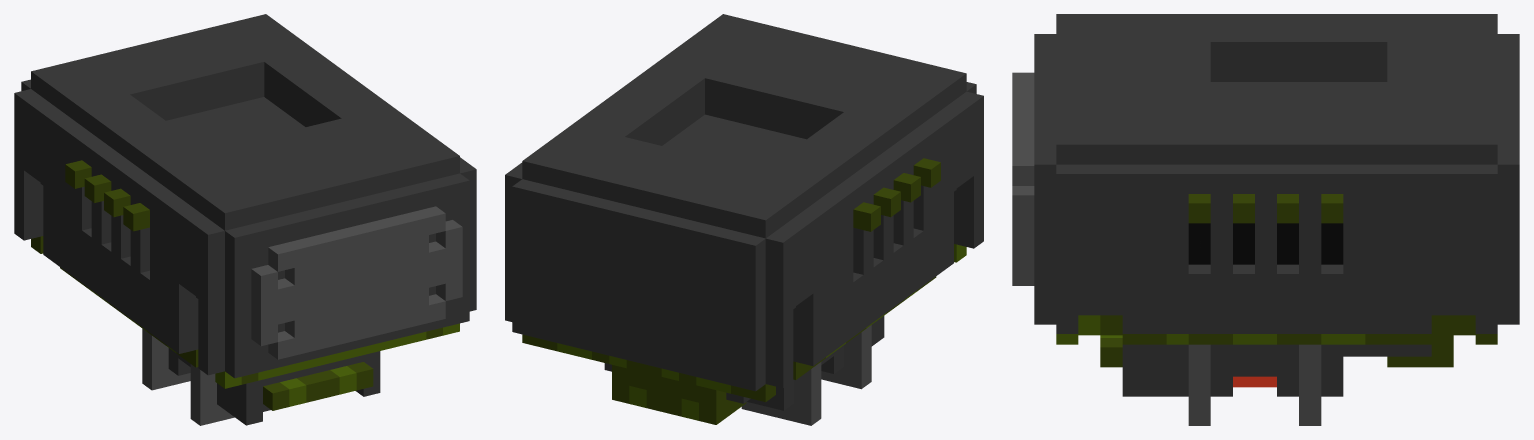
File: Body-4.obj
3 renders of one model, left to right at view 1: azimuth 30°, elevation 25°; view 2: azimuth 150°, elevation 25°; view 3: azimuth 270°, elevation 25°, orthographic. The views are drawn at different scales.
Size of the model in its own units: 1.8 by 1.5 by 2.3.
1 material, 1 textured.
